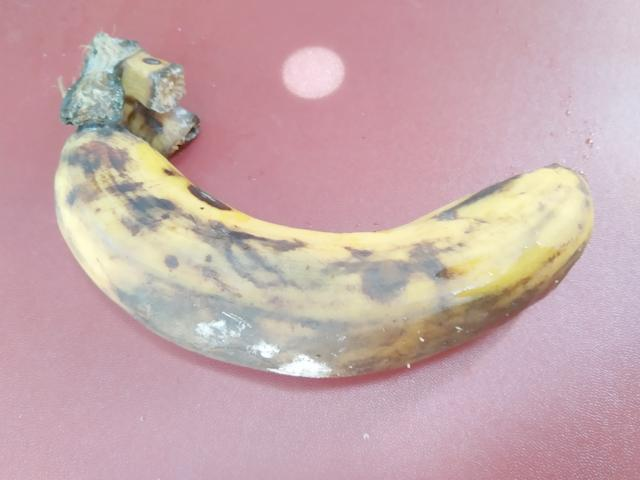overripe: (45, 87, 607, 415)
